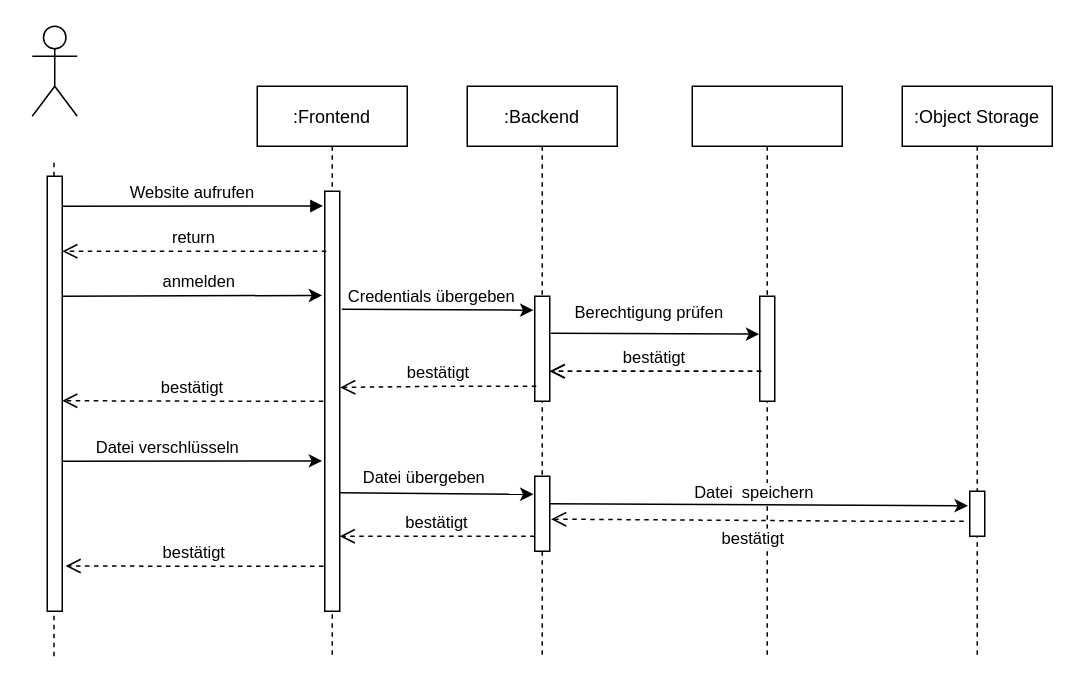
Some shapes in this 1079 by 684 pixel diagram are drawn without their labels. Each missing label, with the box of its shape:
:Database: (691, 85, 842, 656)
:Kunde: (31, 25, 77, 116)
